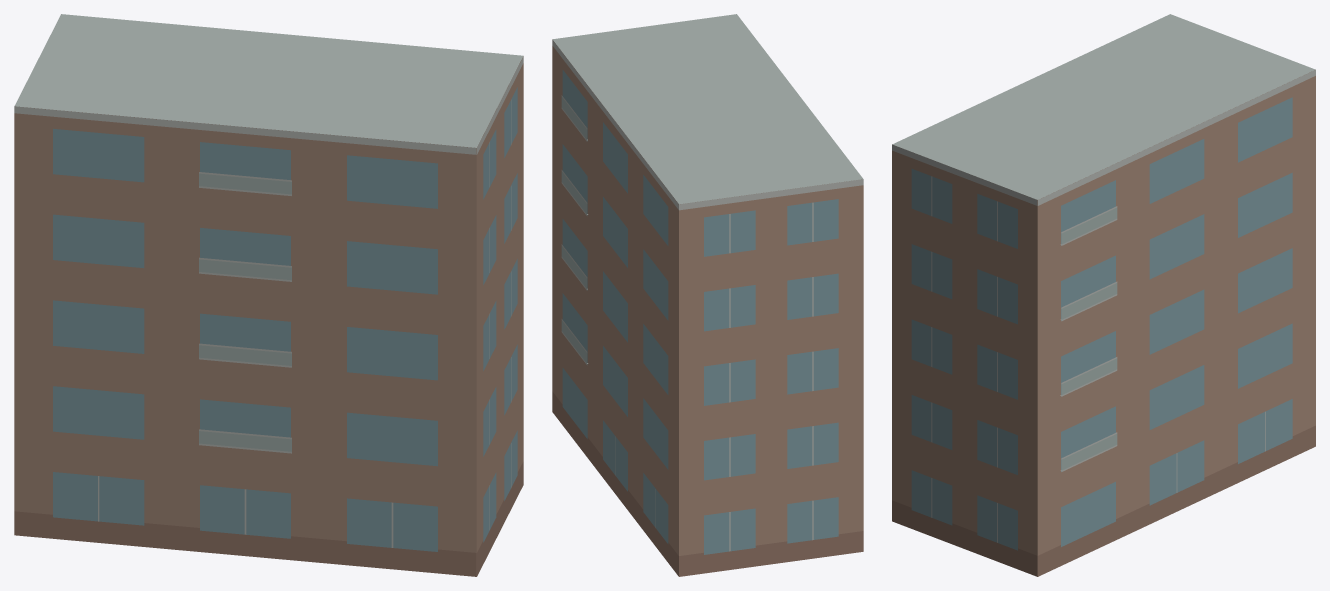
Rendered from survey-upis-32528642.glb.
The picture shows the model from 3 angles, left to right: view 1: azimuth 30°, elevation 25°; view 2: azimuth 150°, elevation 25°; view 3: azimuth 270°, elevation 25°; orthographic projection. The views are drawn at different scales.
Visible parts, largest first — view 1: survey-upis-32528642.tmp; view 2: survey-upis-32528642.tmp; view 3: survey-upis-32528642.tmp.
Boxes of the visible parts, bbox=[...] form: survey-upis-32528642.tmp: bbox=[14, 14, 523, 576]; survey-upis-32528642.tmp: bbox=[552, 14, 863, 576]; survey-upis-32528642.tmp: bbox=[892, 14, 1315, 576].
Bounding box in the file's own units: 15.88 × 15 × 15.29.
